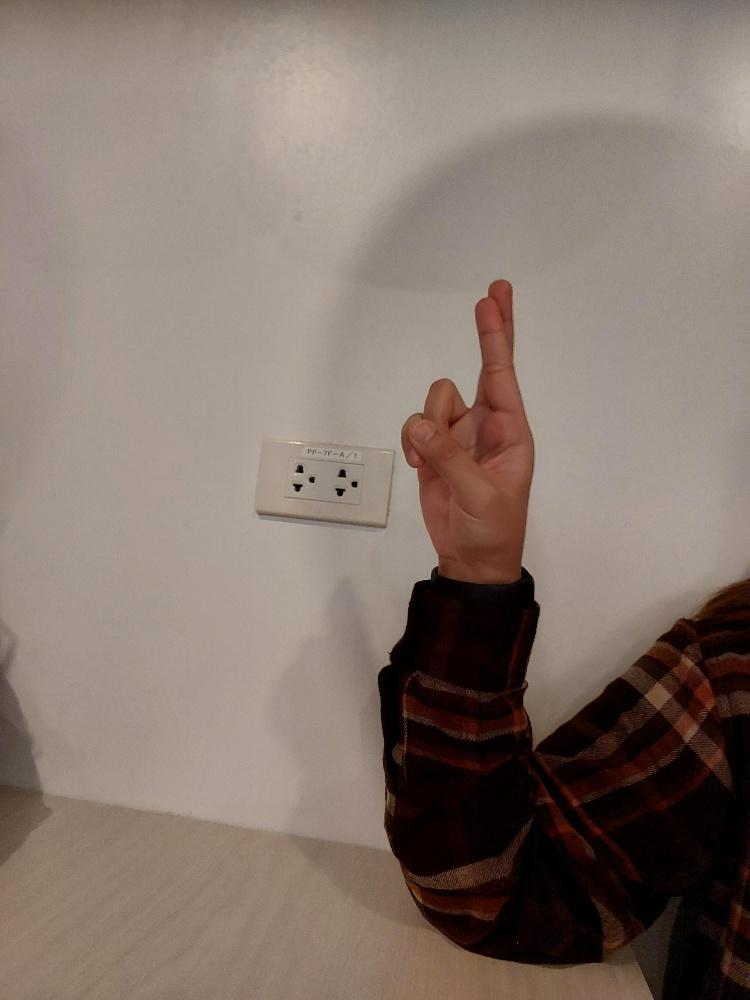r: (398, 274, 540, 578)
